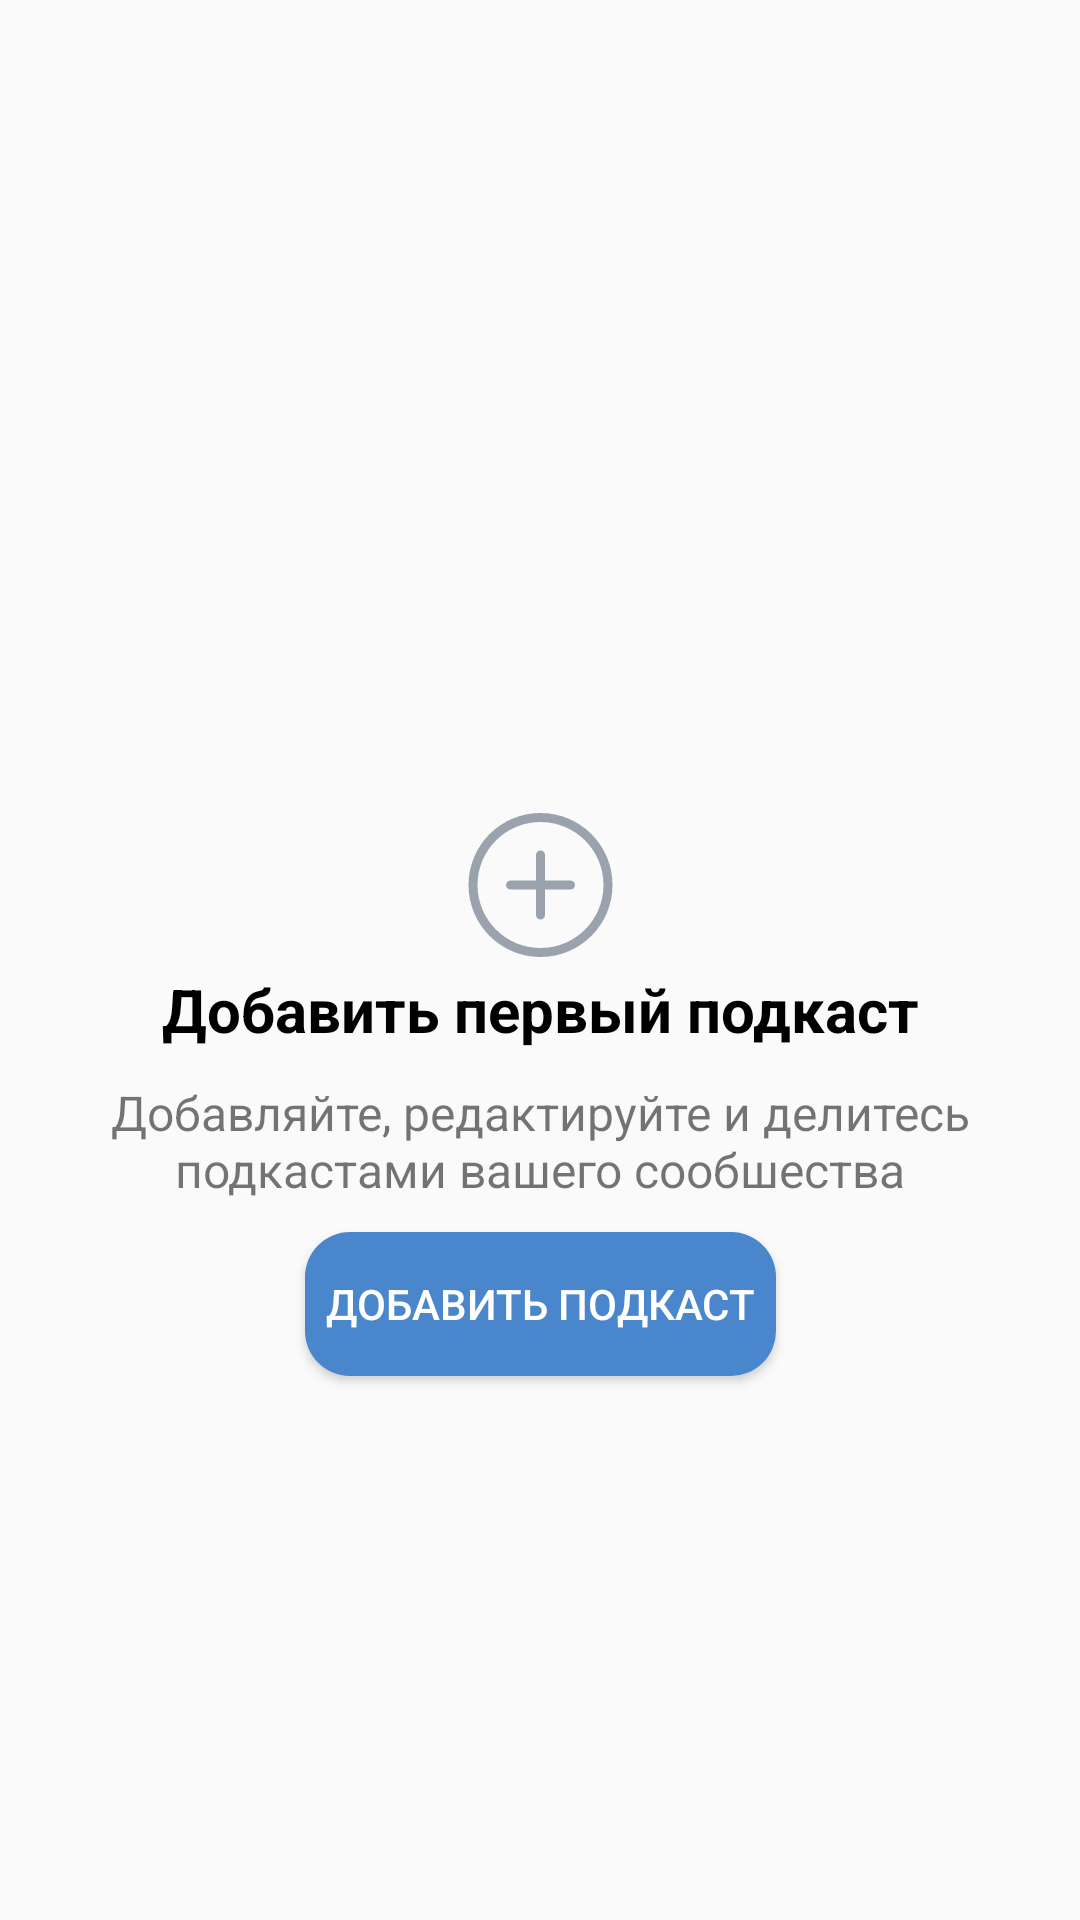

Point at icon controls on the screen. Image size 1080×1920, points as (x,y).
add circle: (540,885)
